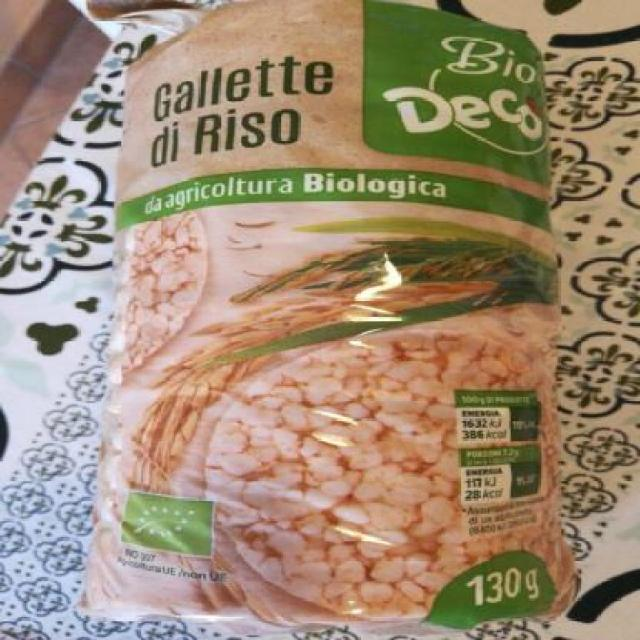Gallette di riso: (85, 6, 598, 622)
